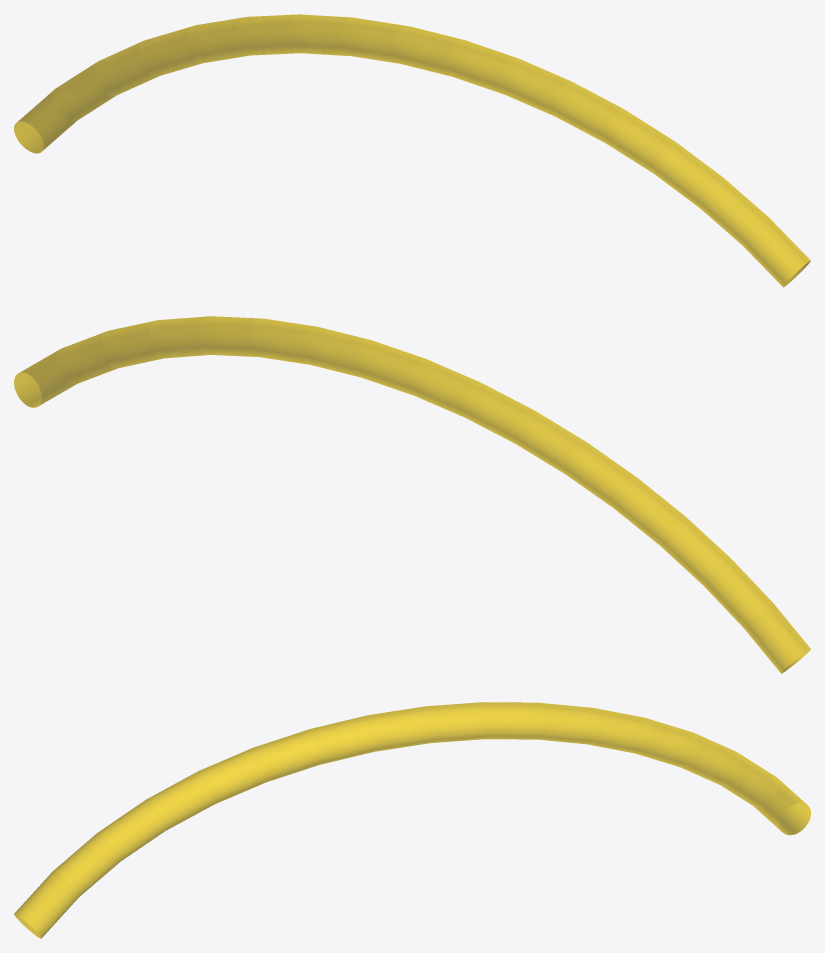
The model's file is Event_15818458_track_61.fbx.
3 views of the same model, one above another, from view 1: azimuth 30°, elevation 25°; view 2: azimuth 210°, elevation 25°; view 3: azimuth 270°, elevation 25° (orthographic). The views are drawn at different scales.
Parts seen in each view (by area): view 1: Model; view 2: Model; view 3: Model.
Part boxes in pixels (x1,y1,x2,y2): Model: [14, 14, 810, 287]; Model: [14, 316, 810, 673]; Model: [14, 702, 810, 938].
Bounding box in the file's own units: 0.4731 × 0.2504 × 0.8579.
